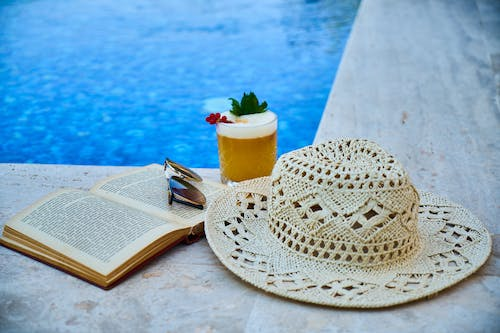alcohol: (216, 108, 277, 185)
